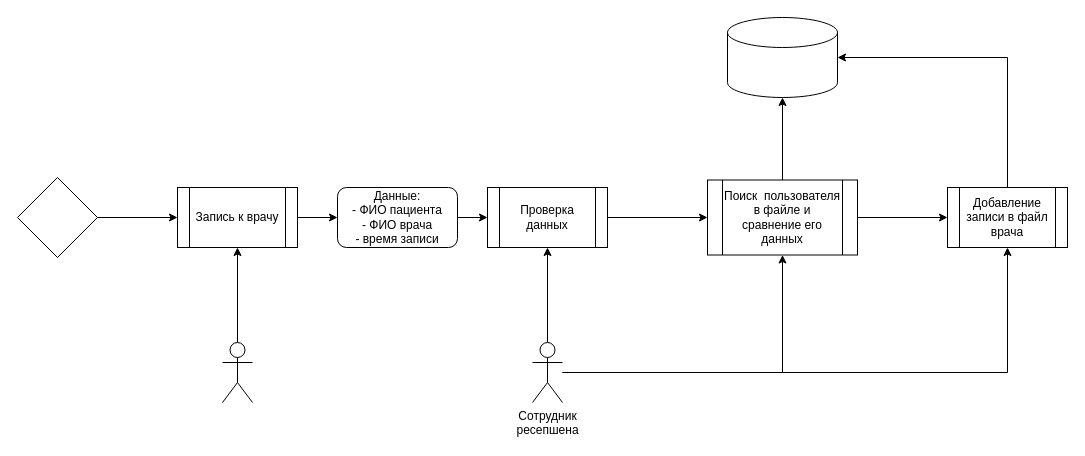
Some shapes in this 1085 by 456 pixel diagram are drawn without their labels. The shapes that lost their labels are listed below. From the top down, each one's centre as x and y in pixels, then its label:
At point 782,57: "Хранилище с файлами".
At point 57,217: "Начало".
At point 237,372: "Пациент".
